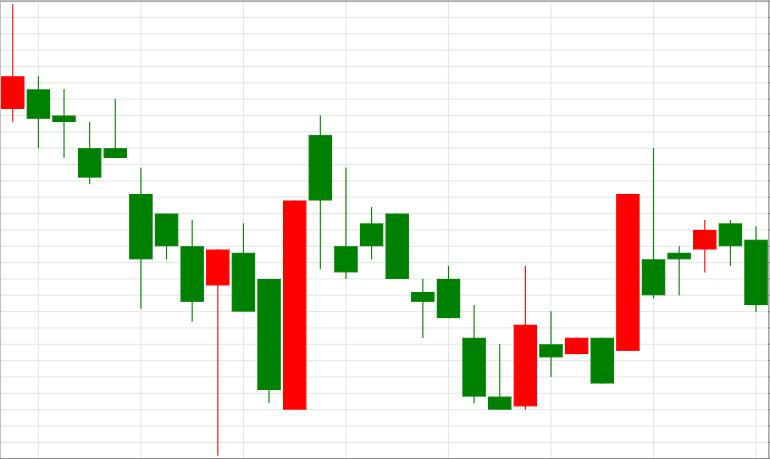bullish_engulfing_rise: (0, 4, 306, 455)
hammer_rise: (0, 3, 229, 455)
morning_star_rise: (309, 115, 537, 410)
